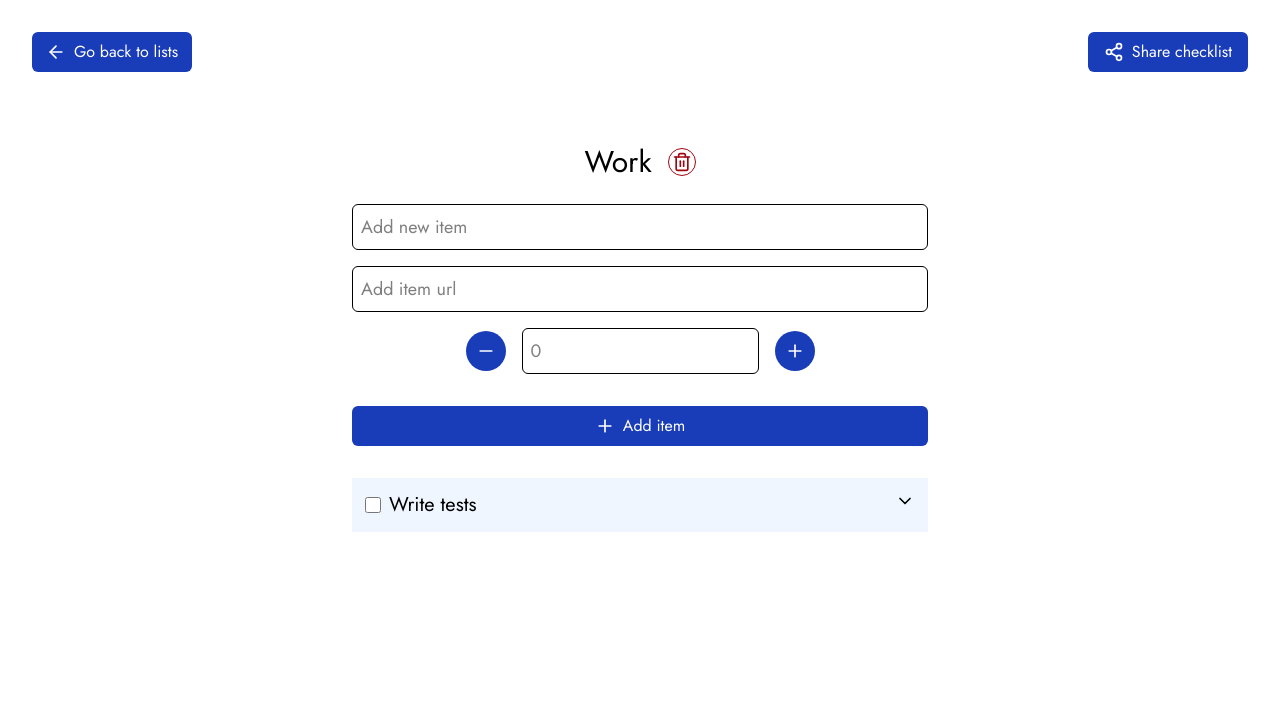
Test: Checklist › deletes an item when the delete API succeeds
The width and height of the screenshot is (1280, 720).
Click the button "Write tests". click: (433, 504)
box: [352, 478, 928, 532]
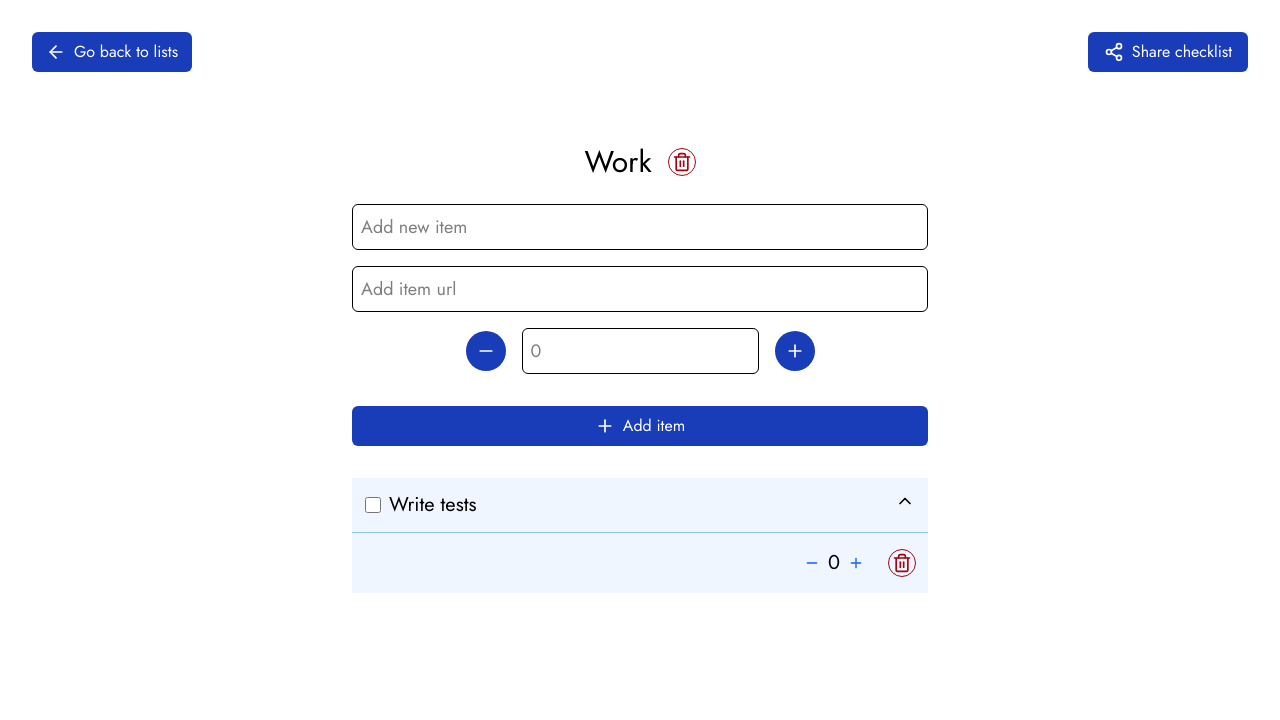
Click the button with test id "item-delete-item-1". click: (902, 563)
box: [888, 549, 916, 577]
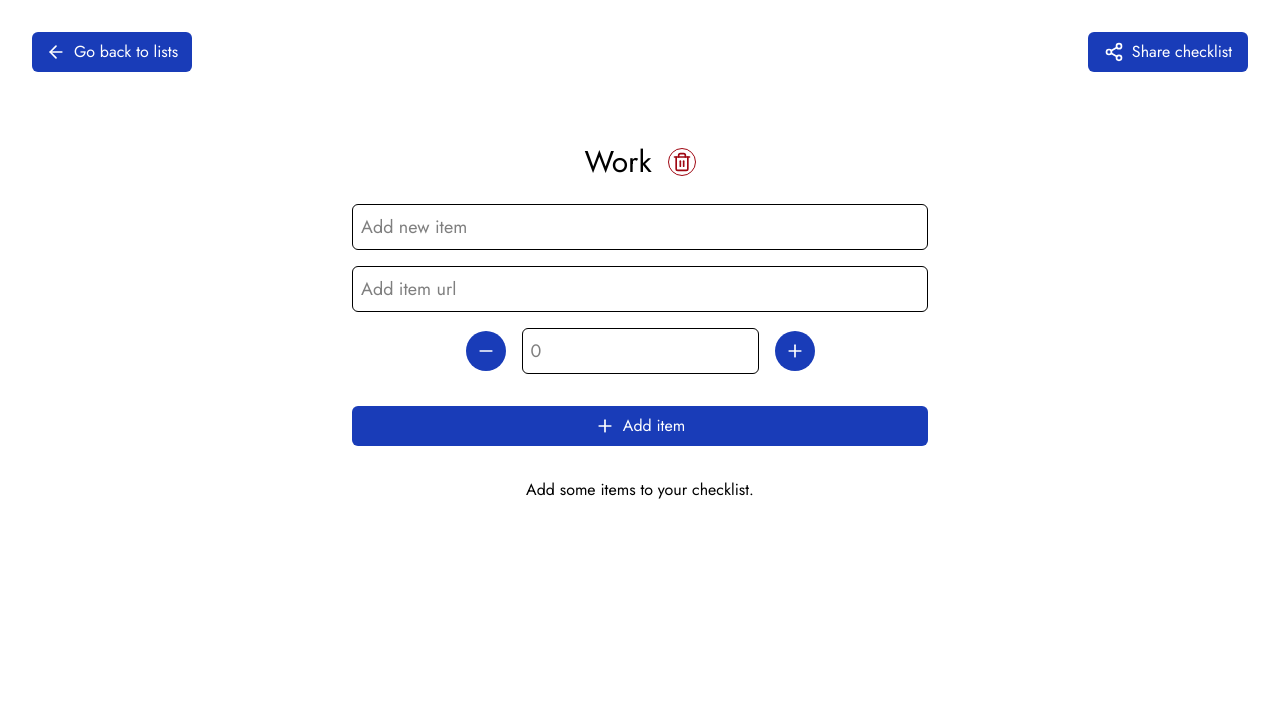
expect the button "Write tests" is gone: met
